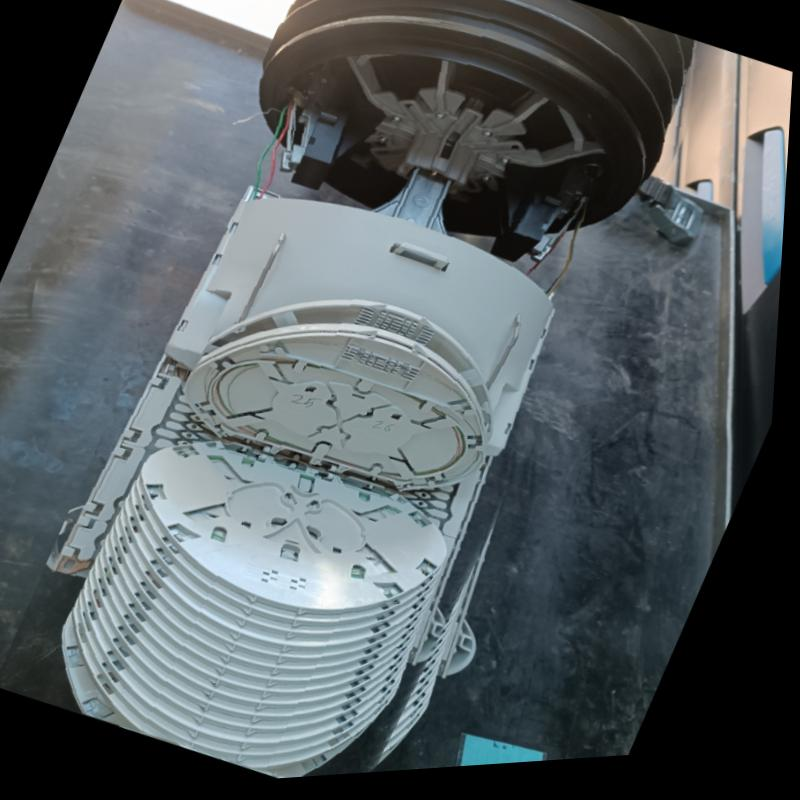NT-Muffen: (51, 0, 701, 783)
